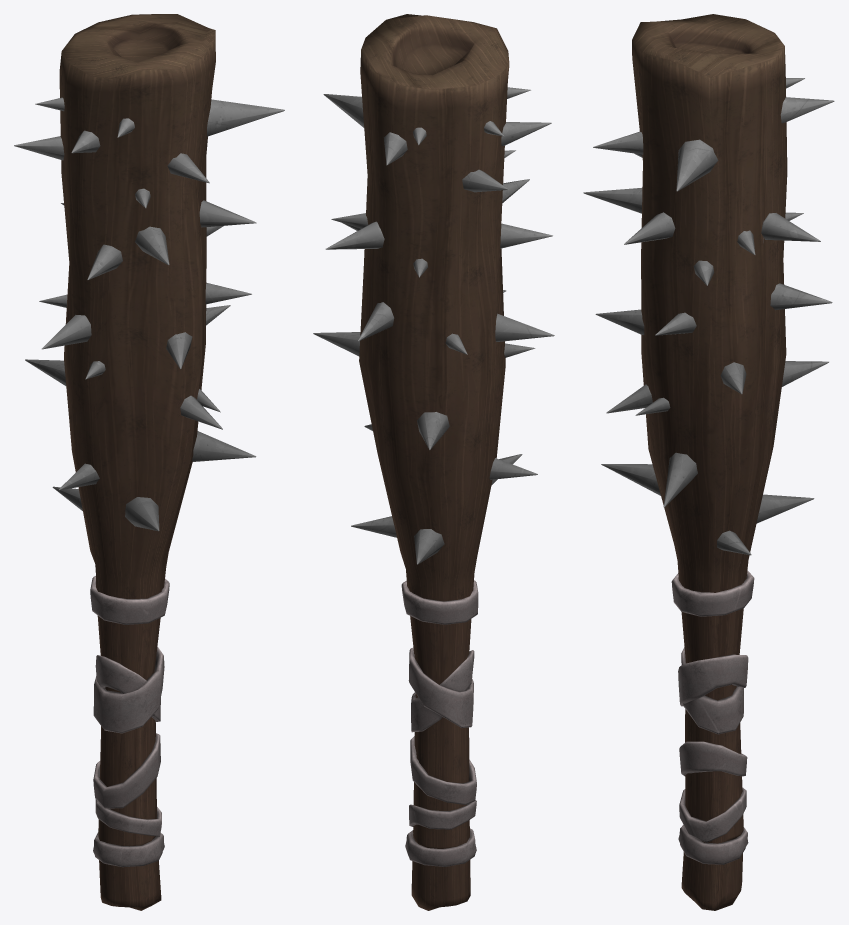
The model's file is bata cu tepi.fbx.
The picture shows the model from 3 angles, left to right: view 1: azimuth 30°, elevation 25°; view 2: azimuth 150°, elevation 25°; view 3: azimuth 270°, elevation 25°; orthographic projection.
Visible parts, largest first — view 1: 1_low.001; view 2: 1_low.001; view 3: 1_low.001.
Boxes of the visible parts, box(x1,y1,x2,y2) form: 1_low.001: box(14, 14, 284, 910); 1_low.001: box(313, 14, 554, 910); 1_low.001: box(583, 14, 834, 910).
Size of the model in its own units: 62.25 by 217 by 56.69.
